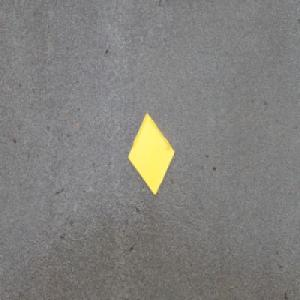PlasticPart: (127, 110, 175, 196)
